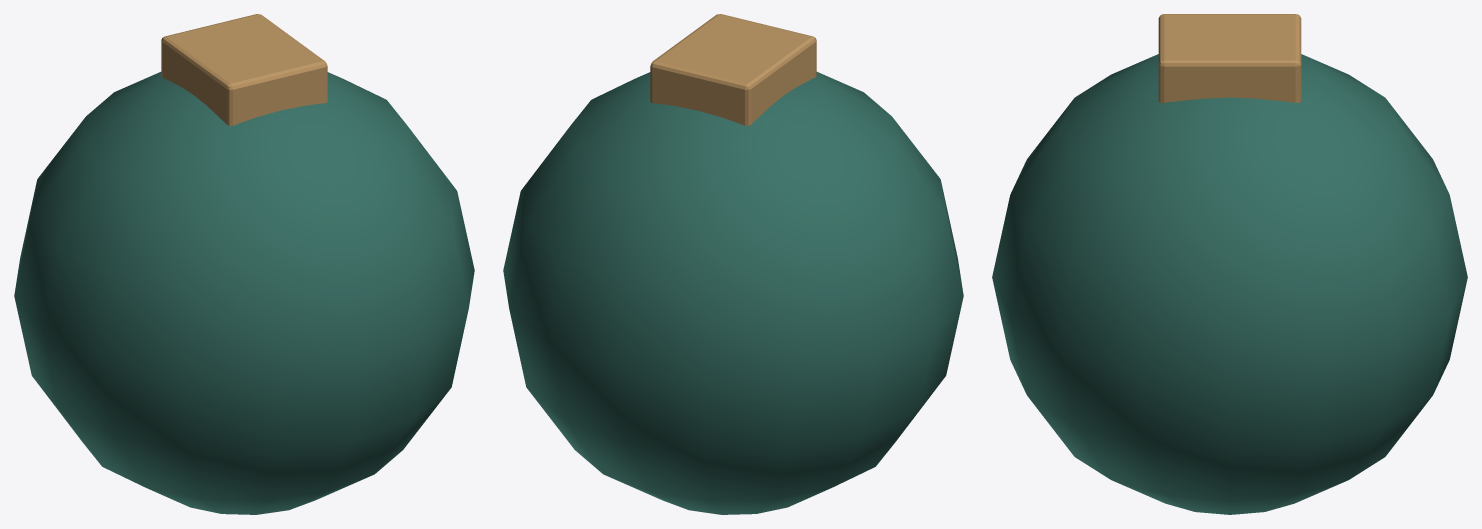
Rendered from SM_Keeper_Sobek_Tail3.fbx.
3 renders of one model, left to right at view 1: azimuth 30°, elevation 25°; view 2: azimuth 150°, elevation 25°; view 3: azimuth 270°, elevation 25°, orthographic. The views are drawn at different scales.
Visible parts, largest first — view 1: SM_Keeper_Sobek_Tail3; view 2: SM_Keeper_Sobek_Tail3; view 3: SM_Keeper_Sobek_Tail3.
Part boxes in pixels (x1,y1,x2,y2): SM_Keeper_Sobek_Tail3: (14, 14, 474, 514); SM_Keeper_Sobek_Tail3: (503, 14, 963, 514); SM_Keeper_Sobek_Tail3: (992, 14, 1467, 514).
Size of the model in its own units: 2 by 2.11 by 2.
